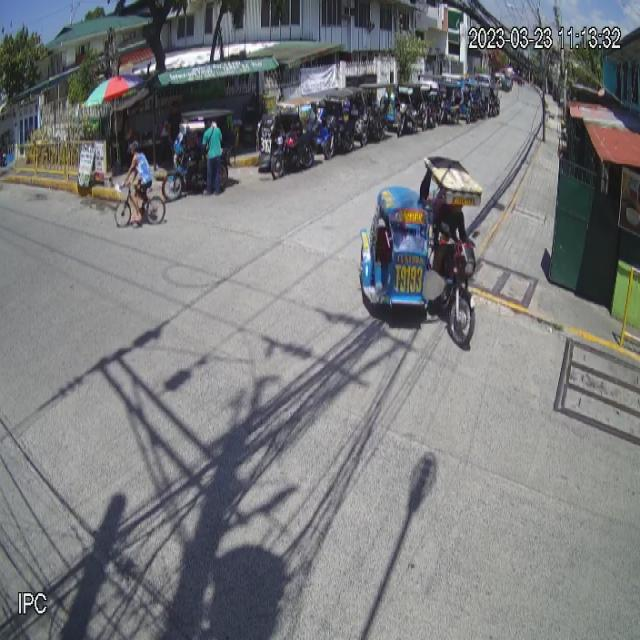Tricycle: (358, 156, 483, 346)
